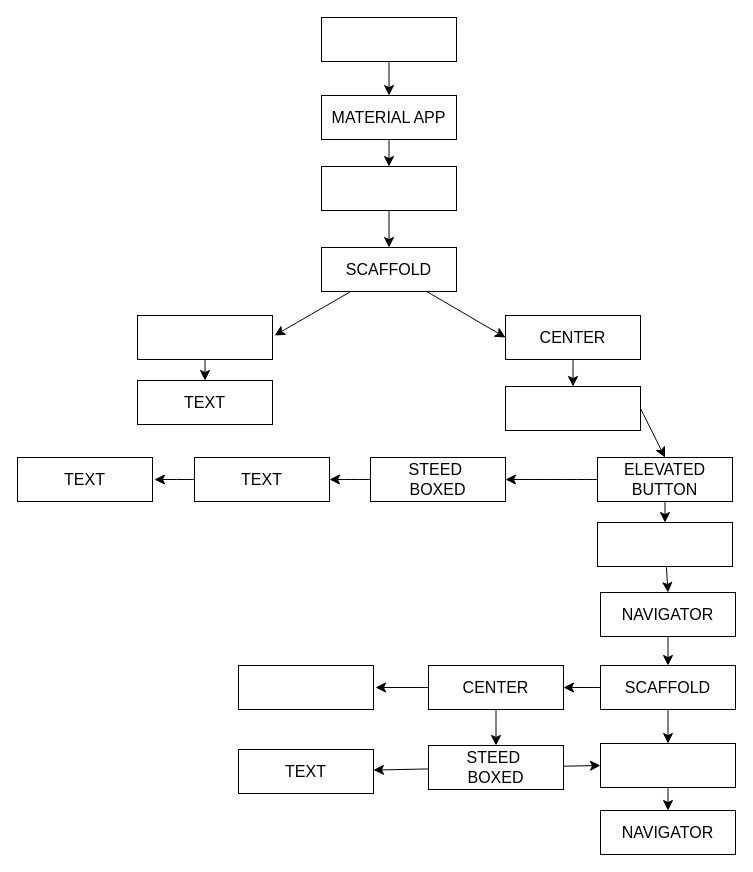
The diagram is 753 pixels wide and 872 high, and some of its shapes have lost their labels. Here are the shapes that lost their labels. From the top down, the centre of each, then its label:
(388,39): MyAPP
(388,188): HOME PAGE
(204,337): APP BAR
(572,408): COLUMN
(664,544): TEXT TO DETAILS
(306,687): APPBAR
(668,765): ELEVATED
